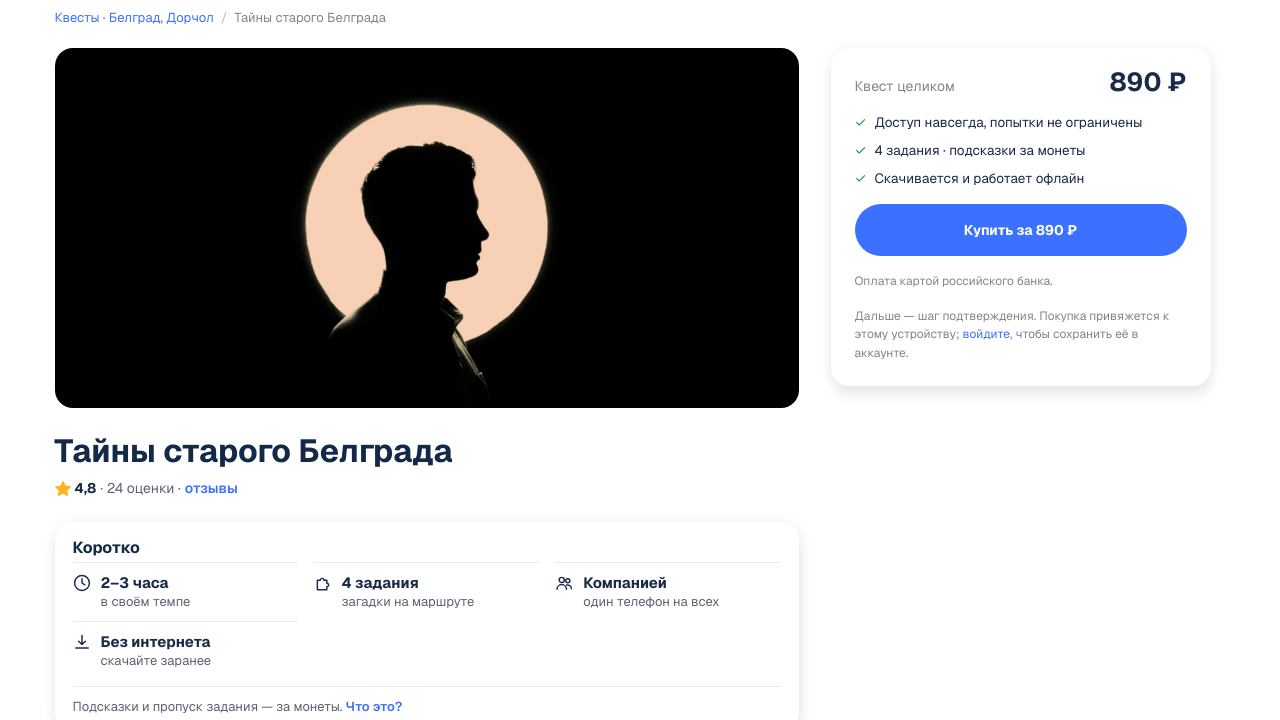
Test: AboutClient › «Купить» opens the sheet; confirm flips the order card in place + auto-downloads
Click the button "Купить за 890 ₽" at (1020, 230), box [854,204,1186,256]
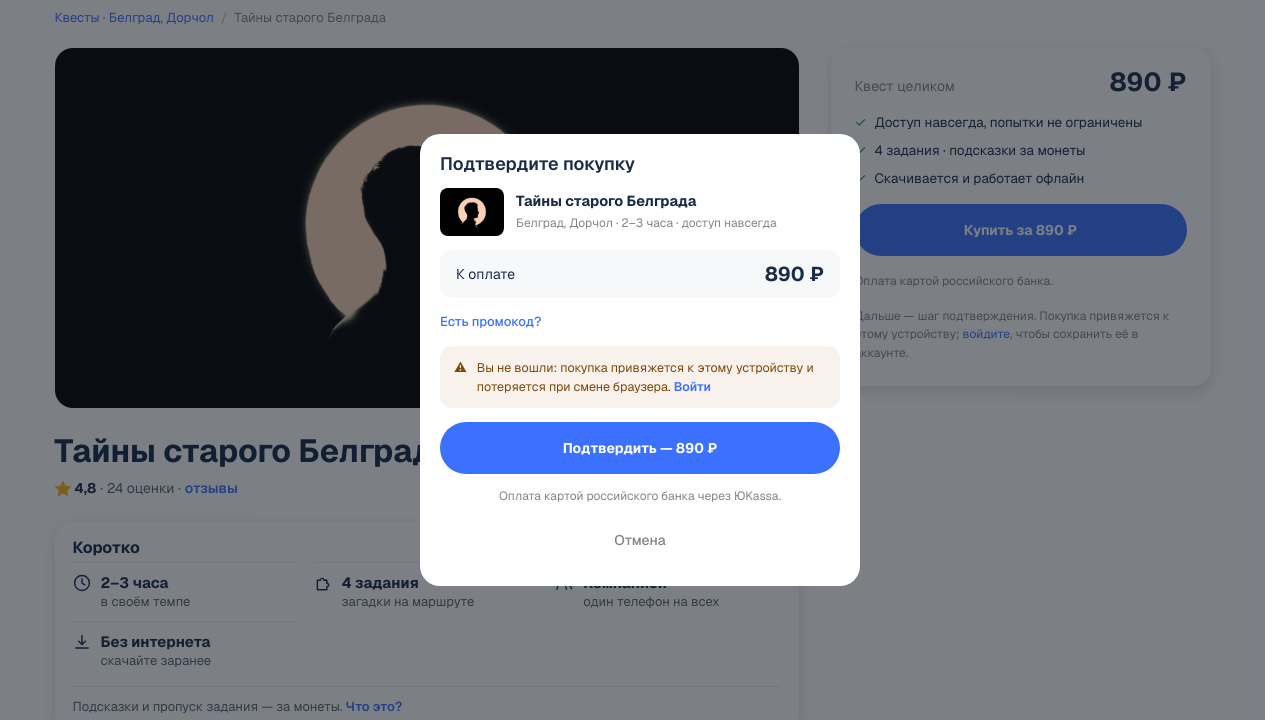
Expected: the heading "Подтвердите покупку" is shown, [440,152,635,175]
Click the button "Подтвердить — 890 ₽" at (640, 448), box [440,422,840,474]
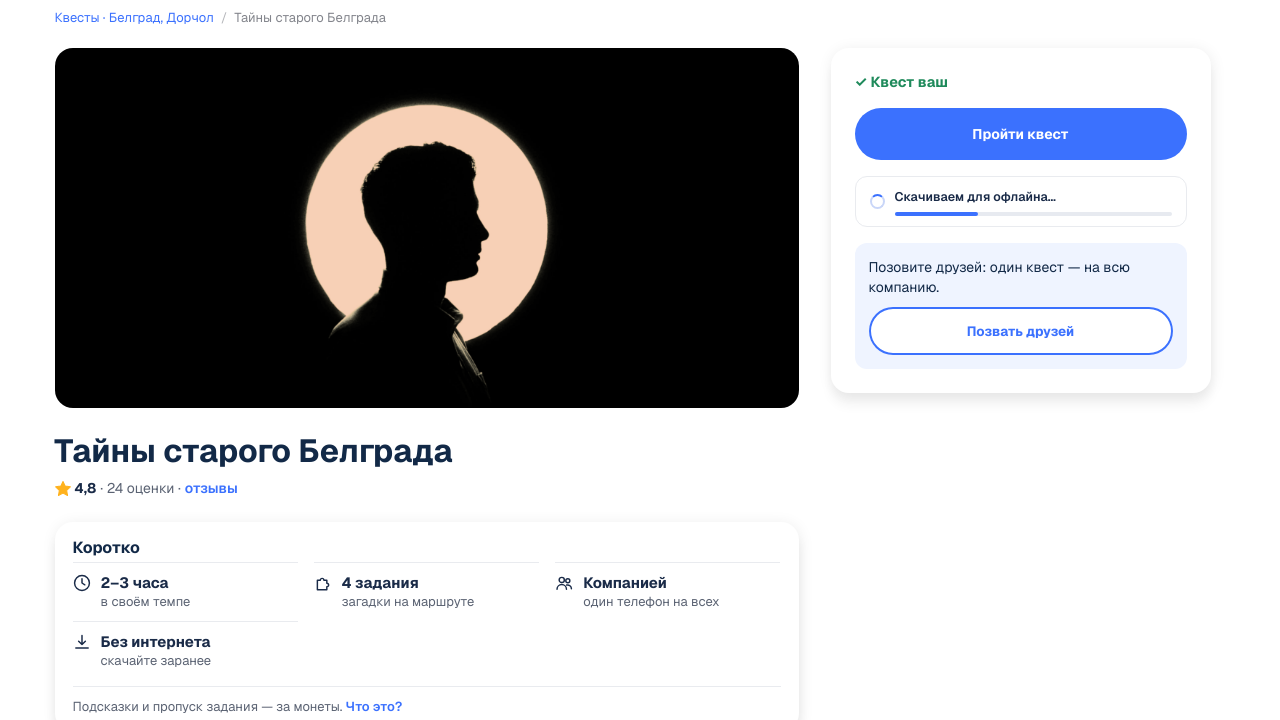
Expected: the text "✓ Квест ваш" is shown, [854,72,948,91]
